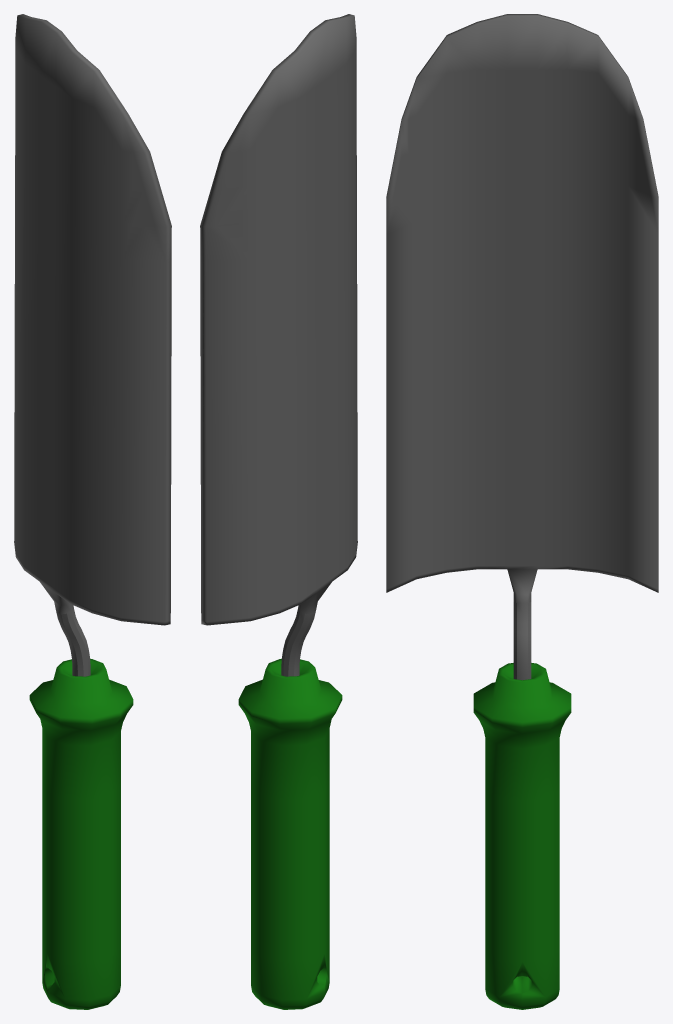
File: laputapalaConAgujero.fbx
The picture shows the model from 3 angles, left to right: view 1: azimuth 30°, elevation 25°; view 2: azimuth 150°, elevation 25°; view 3: azimuth 270°, elevation 25°; orthographic projection.
Visible parts, largest first — view 1: Cylinder001; view 2: Cylinder001; view 3: Cylinder001.
Boxes of the visible parts, x1,y1,x2,y2 form: Cylinder001: (14,14,171,1009); Cylinder001: (200,14,357,1009); Cylinder001: (386,14,658,1009).
Size of the model in its own units: 5.26 by 54.6 by 13.91.
